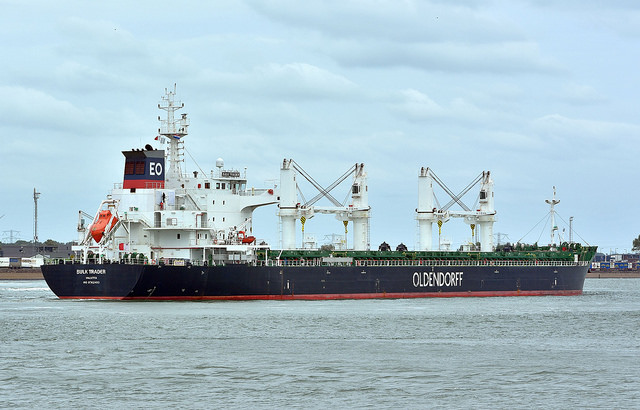bulk carrier: (39, 80, 594, 298)
